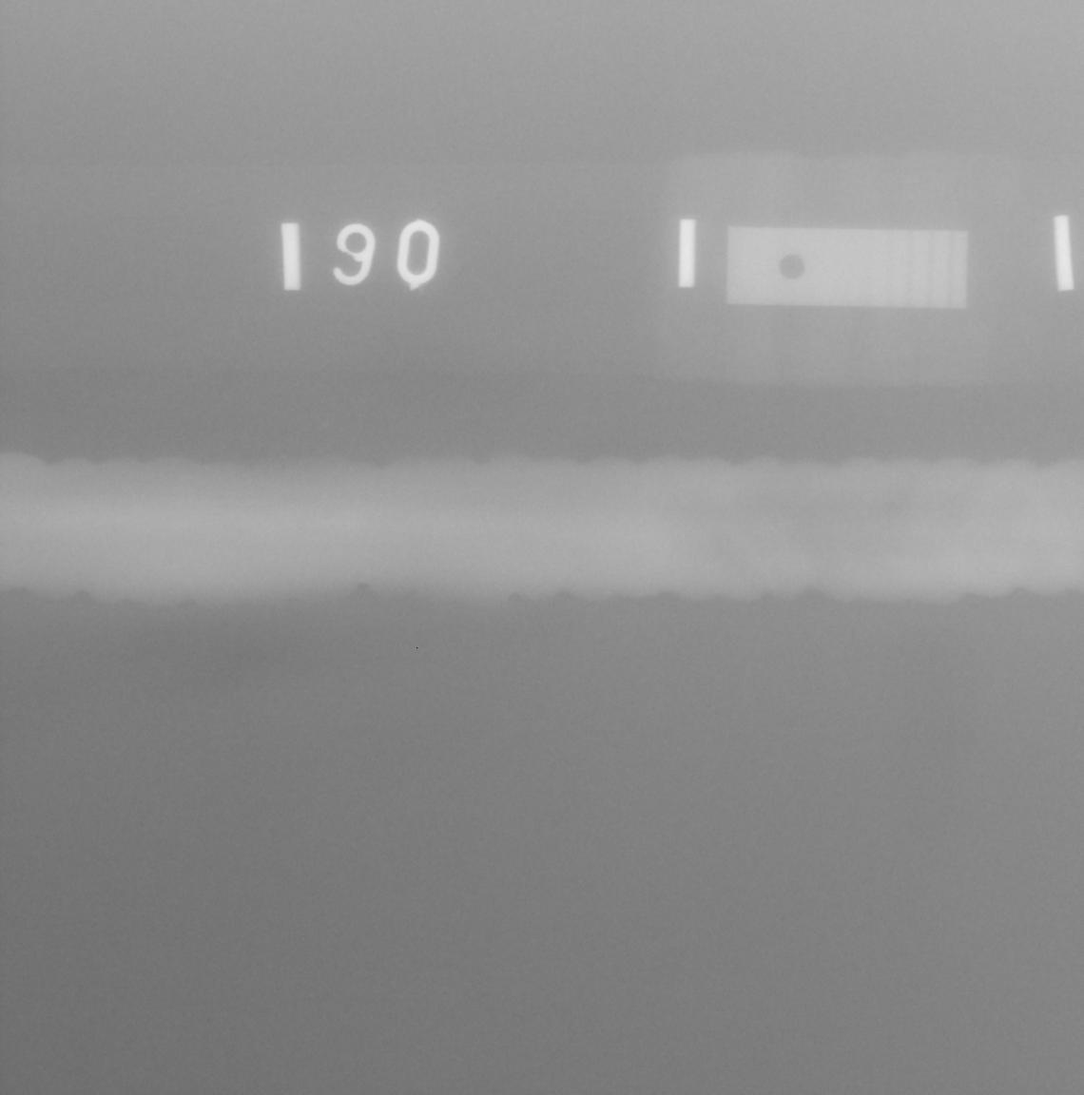Reference Standard 1: (727, 227, 968, 308)
